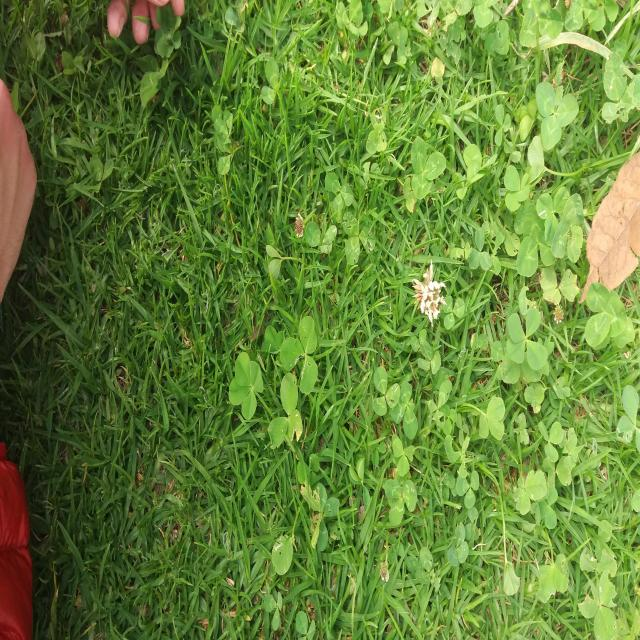Four Leaf Clover: (215, 323, 251, 398)
